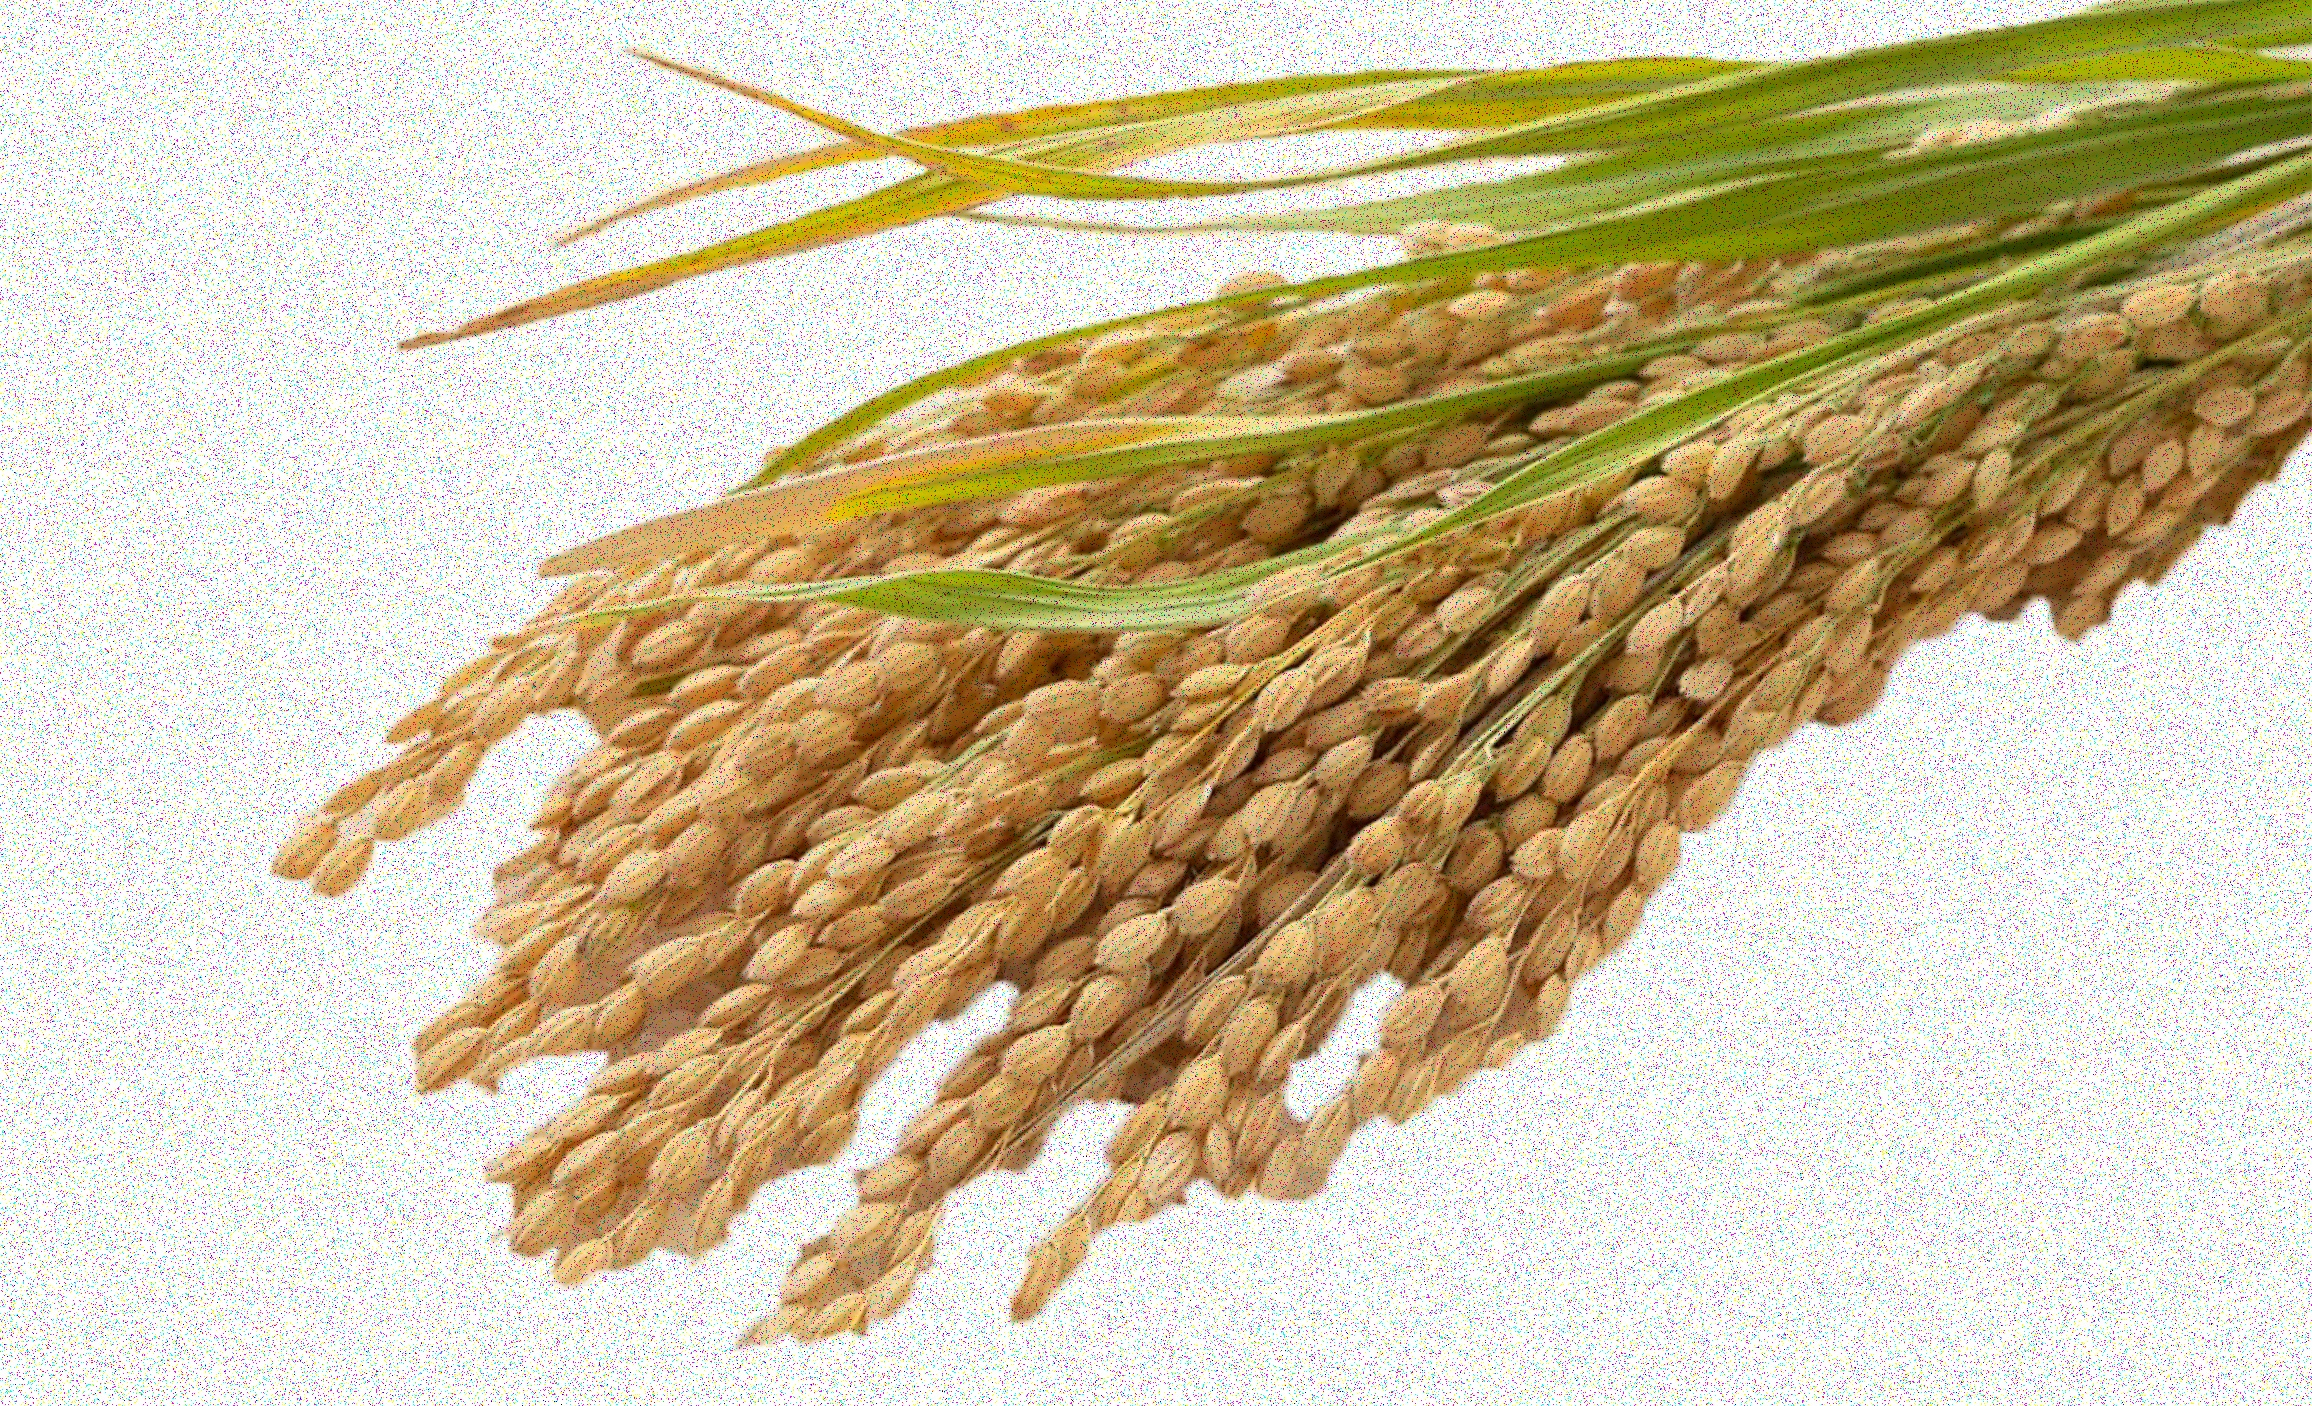rice: (216, 112, 2309, 1376)
